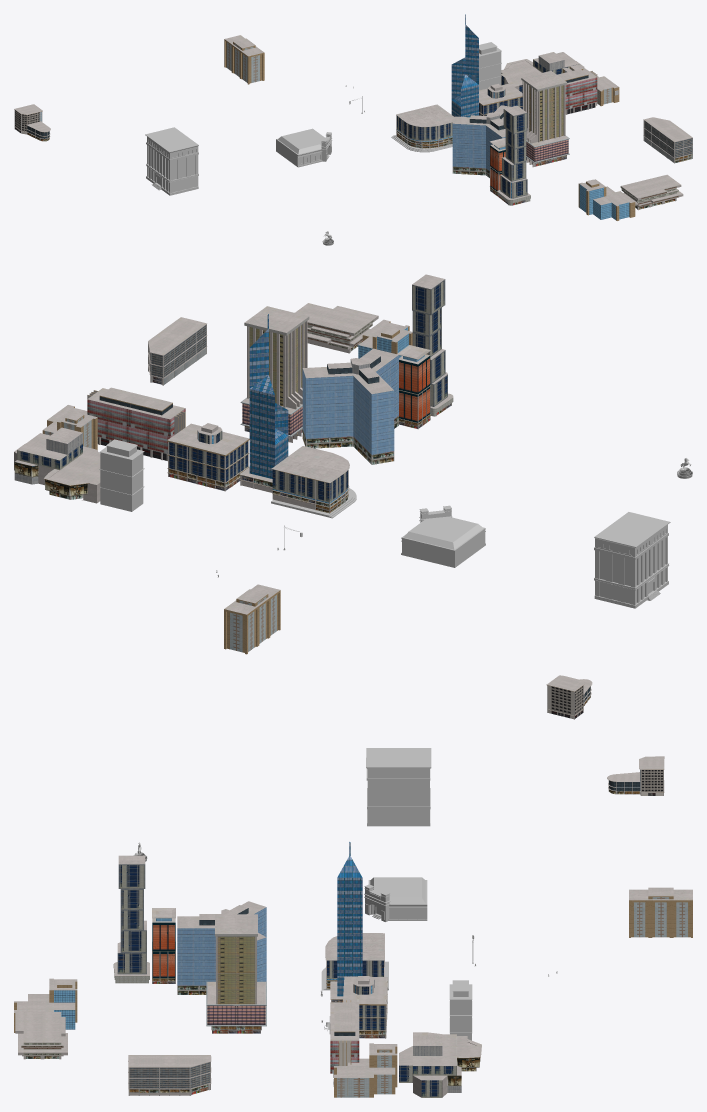
File: CityBiuildings.fbx
3 views of the same model, one above another, from view 1: azimuth 30°, elevation 25°; view 2: azimuth 150°, elevation 25°; view 3: azimuth 270°, elevation 25° (orthographic). The views are drawn at different scales.
Visible parts, largest first — view 1: L2 J002, Building T, L2 H, L2 G002, L1 G002, L1 B, Qua B003, Building V, L1 N002, Qua A1, L2 B, zaha hadid1 (+6 smaller); view 2: L2 H, Building T, L2 J002, L2 B, L2 I, L1 B, L1 R, L1 G002, Building V, L2 G002, Qua A1, L1 N002 (+6 smaller); view 3: L2 J002, Building T, L2 B, L2 H, L2 G002, L1 N002, L1 B, Qua A1, Qua B002, Building V, zaha hadid1, L1 R (+6 smaller).
Part boxes in pixels (x1,y1,x2,y2): L2 J002: (521,70,569,167); Building T: (145,127,198,195); L2 H: (452,105,510,177); L2 G002: (497,105,530,205); L1 G002: (396,104,454,148); L1 B: (451,14,478,117); Qua B003: (578,179,635,220); Building V: (276,128,332,167); L1 N002: (643,117,692,163); Qua A1: (224,35,264,84); L2 B: (501,52,584,92); zaha hadid1: (620,174,683,210); L2 H: (302,348,398,464); Building T: (594,512,670,608); L2 J002: (240,306,309,442); L2 B: (14,427,100,503); L2 I: (87,387,185,460); L1 B: (239,314,288,492); L1 R: (167,423,249,491); L1 G002: (271,446,349,513); Building V: (401,505,485,567); L2 G002: (412,274,453,416); Qua A1: (224,584,280,654); L1 N002: (148,317,207,385); L2 J002: (206,914,266,1033); Building T: (366,748,431,826); L2 B: (399,1032,481,1097); L2 H: (177,901,266,994); L2 G002: (113,855,149,983); L1 N002: (128,1055,211,1095); L1 B: (330,842,362,1002); Qua A1: (629,887,692,937); Qua B002: (334,1043,397,1097); Building V: (364,877,427,921); zaha hadid1: (15,1012,67,1059); L1 R: (343,976,387,1038).
Size of the model in its own units: 233 by 56.2 by 213.
